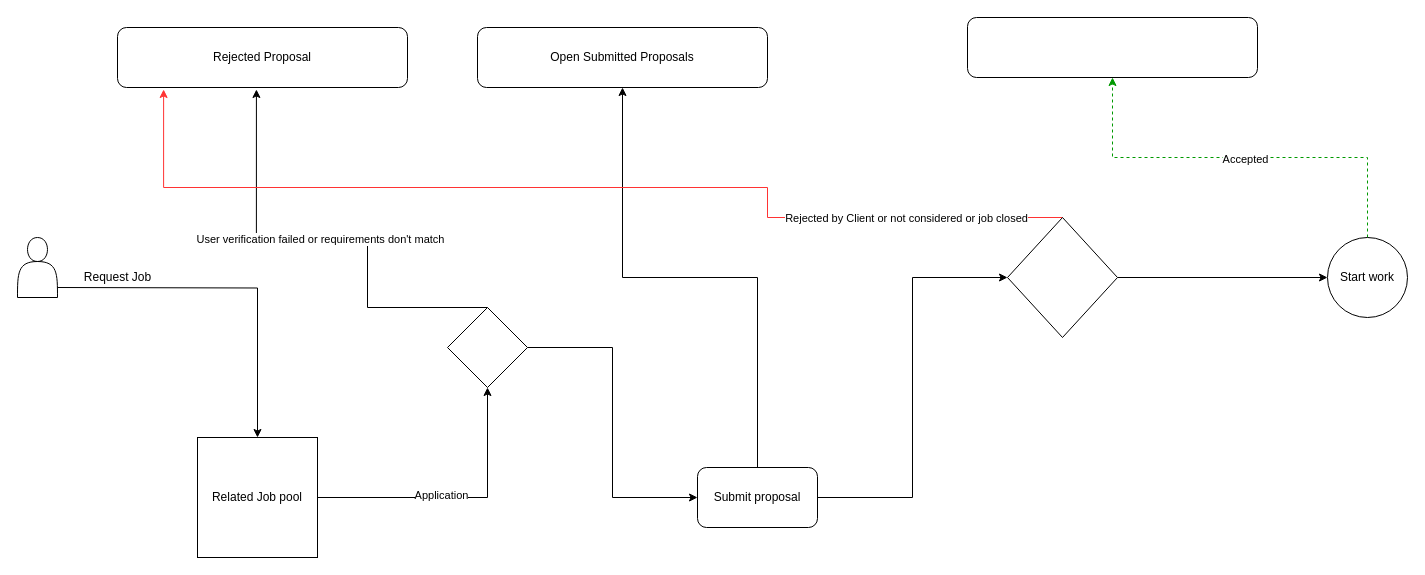
This 1425x575 diagram has some shape labels left out. The shapes that lost their labels are listed below. From the top down, each one's centre as x and y in pixels, then its label:
the point at 1112,47: Projects in progress
the point at 1062,277: Proposal Assessment
the point at 487,347: Assessment
